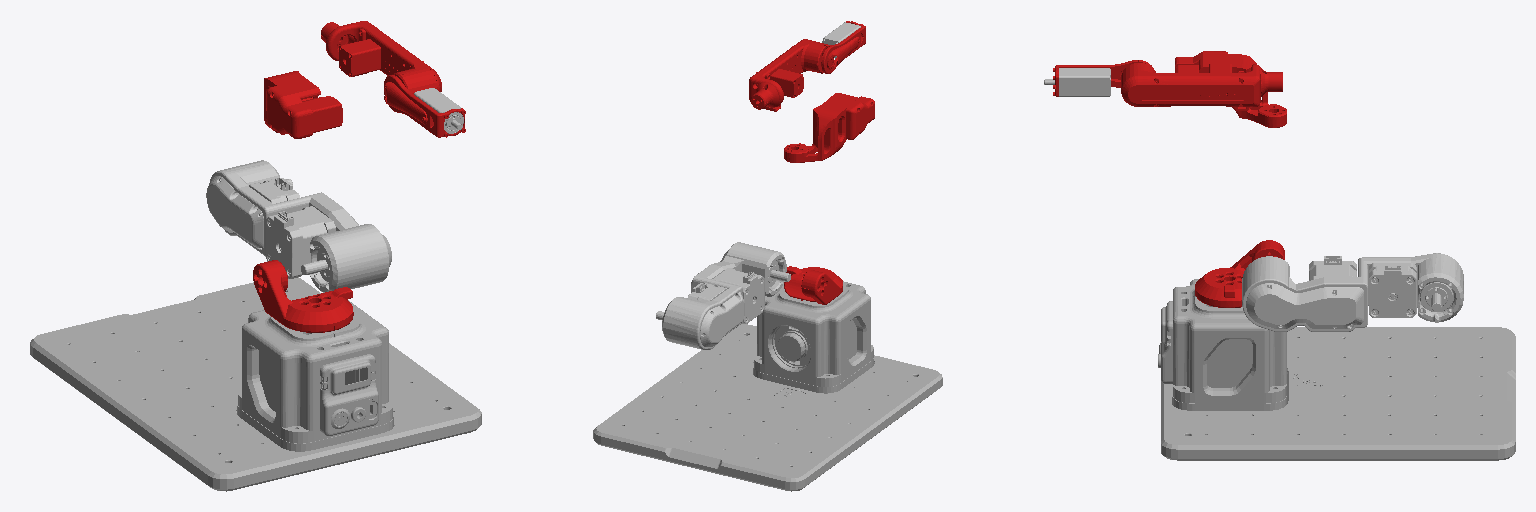
The robot description file, URDF, robot "dummy_sim_ros":
<robot
  name="dummy_sim_ros">
  <link
    name="base_link">
    <inertial>
      <origin
        xyz="-6.8096E-05 0.070008 0.00019856"
        rpy="0 0 0" />
      <mass
        value="1.5382" />
      <inertia
        ixx="0.0040131"
        ixy="-1.2472E-05"
        ixz="2.4677E-06"
        iyy="0.00089179"
        iyz="0.0013906"
        izz="0.003361" />
    </inertial>
    <visual>
      <origin
        xyz="0 0 0"
        rpy="0 0 0" />
      <geometry>
        <mesh
          filename="package://dummy_sim_ros/meshes/base_link.STL" />
      </geometry>
      <material
        name="">
        <color
          rgba="0.72157 0.72157 0.72157 1" />
      </material>
    </visual>
    <collision>
      <origin
        xyz="0 0 0"
        rpy="0 0 0" />
      <geometry>
        <mesh
          filename="package://dummy_sim_ros/meshes/base_link.STL" />
      </geometry>
    </collision>
  </link>
  <link
    name="link1">
    <inertial>
      <origin
        xyz="-0.0056156 0.0056565 0.11554"
        rpy="0 0 0" />
      <mass
        value="0.052137" />
      <inertia
        ixx="0"
        ixy="0"
        ixz="0"
        iyy="0"
        iyz="0"
        izz="0" />
    </inertial>
    <visual>
      <origin
        xyz="0 0 0"
        rpy="0 0 0" />
      <geometry>
        <mesh
          filename="package://dummy_sim_ros/meshes/link1.STL" />
      </geometry>
      <material
        name="">
        <color
          rgba="0.81176 0.1451 0.1451 1" />
      </material>
    </visual>
    <collision>
      <origin
        xyz="0 0 0"
        rpy="0 0 0" />
      <geometry>
        <mesh
          filename="package://dummy_sim_ros/meshes/link1.STL" />
      </geometry>
    </collision>
  </link>
  <joint
    name="joint1"
    type="revolute">
    <origin
      xyz="0 0 -0.023"
      rpy="-9.9341E-09 0 0" />
    <parent
      link="base_link" />
    <child
      link="link1" />
    <axis
      xyz="0 0 1" />
    <limit
      lower="-3.14"
      upper="3.14"
      effort="100"
      velocity="1" />
  </joint>
  <link
    name="link2">
    <inertial>
      <origin
        xyz="0.064108 -0.0022481 -0.016073"
        rpy="0 0 0" />
      <mass
        value="0.28881" />
      <inertia
        ixx="3.94E-05"
        ixy="-9.3344E-07"
        ixz="3.4684E-05"
        iyy="0.00029691"
        iyz="-7.3142E-07"
        izz="0.00025967" />
    </inertial>
    <visual>
      <origin
        xyz="0 0 0"
        rpy="0 0 0" />
      <geometry>
        <mesh
          filename="package://dummy_sim_ros/meshes/link2.STL" />
      </geometry>
      <material
        name="">
        <color
          rgba="0.79608 0.79608 0.79608 1" />
      </material>
    </visual>
    <collision>
      <origin
        xyz="0 0 0"
        rpy="0 0 0" />
      <geometry>
        <mesh
          filename="package://dummy_sim_ros/meshes/link2.STL" />
      </geometry>
    </collision>
  </link>
  <joint
    name="joint2"
    type="revolute">
    <origin
      xyz="0.02 0.035 0.132"
      rpy="0 -1.5708 0" />
    <parent
      link="link1" />
    <child
      link="link2" />
    <axis
      xyz="0 0 1" />
    <limit
      lower="-3.14"
      upper="3.14"
      effort="100"
      velocity="1" />
  </joint>
  <link
    name="link3">
    <inertial>
      <origin
        xyz="0.0351882654713319 -0.0116621887555742 -0.030903416656249"
        rpy="0 0 0" />
      <mass
        value="0.0927716605678686" />
      <inertia
        ixx="7.27805664799282E-05"
        ixy="6.17755949678826E-07"
        ixz="4.38106132602059E-06"
        iyy="5.95407425791179E-05"
        iyz="-2.05826219620544E-05"
        izz="1.52828302700554E-05" />
    </inertial>
    <visual>
      <origin
        xyz="0 0 0"
        rpy="0 0 0" />
      <geometry>
        <mesh
          filename="package://dummy_sim_ros/meshes/link3.STL" />
      </geometry>
      <material
        name="">
        <color
          rgba="0.811764705882353 0.145098039215686 0.145098039215686 1" />
      </material>
    </visual>
    <collision>
      <origin
        xyz="0 0 0"
        rpy="0 0 0" />
      <geometry>
        <mesh
          filename="package://dummy_sim_ros/meshes/link3.STL" />
      </geometry>
    </collision>
  </link>
  <joint
    name="joint3"
    type="revolute">
    <origin
      xyz="0.146 0.004 0.02015"
      rpy="3.1416 1.5708 0" />
    <parent
      link="link2" />
    <child
      link="link3" />
    <axis
      xyz="-1 0 0" />
    <limit
      lower="-3.14"
      upper="3.14"
      effort="100"
      velocity="1" />
  </joint>
  <link
    name="link4">
    <inertial>
      <origin
        xyz="-0.00879903220502491 0.0929695109996963 -0.00135814214840718"
        rpy="0 0 0" />
      <mass
        value="0.0565793373002389" />
      <inertia
        ixx="4.52106144351053E-05"
        ixy="6.10698310048182E-06"
        ixz="1.5260735796647E-07"
        iyy="5.30731189922814E-06"
        iyz="-8.89643399138576E-07"
        izz="5.00251216011412E-05" />
    </inertial>
    <visual>
      <origin
        xyz="0 0 0"
        rpy="0 0 0" />
      <geometry>
        <mesh
          filename="package://dummy_sim_ros/meshes/link4.STL" />
      </geometry>
      <material
        name="">
        <color
          rgba="0.811764705882353 0.145098039215686 0.145098039215686 1" />
      </material>
    </visual>
    <collision>
      <origin
        xyz="0 0 0"
        rpy="0 0 0" />
      <geometry>
        <mesh
          filename="package://dummy_sim_ros/meshes/link4.STL" />
      </geometry>
    </collision>
  </link>
  <joint
    name="joint4"
    type="revolute">
    <origin
      xyz="0.04015 -0.035 -0.0533"
      rpy="3.1416 0 -3.1416" />
    <parent
      link="link3" />
    <child
      link="link4" />
    <axis
      xyz="0 1 0" />
    <limit
      lower="-3.14"
      upper="3.14"
      effort="100"
      velocity="1" />
  </joint>
  <link
    name="link5">
    <inertial>
      <origin
        xyz="-0.00354102571014257 0.0226043546297583 2.1993427339384E-05"
        rpy="0 0 0" />
      <mass
        value="0.00965516430296135" />
      <inertia
        ixx="5.195697005033E-07"
        ixy="1.66775583567096E-07"
        ixz="-9.0575340290026E-10"
        iyy="9.63428924734517E-08"
        iyz="1.39675577621294E-09"
        izz="5.94717960141526E-07" />
    </inertial>
    <visual>
      <origin
        xyz="0 0 0"
        rpy="0 0 0" />
      <geometry>
        <mesh
          filename="package://dummy_sim_ros/meshes/link5.STL" />
      </geometry>
      <material
        name="">
        <color
          rgba="0.811764705882353 0.145098039215686 0.145098039215686 1" />
      </material>
    </visual>
    <collision>
      <origin
        xyz="0 0 0"
        rpy="0 0 0" />
      <geometry>
        <mesh
          filename="package://dummy_sim_ros/meshes/link5.STL" />
      </geometry>
    </collision>
  </link>
  <joint
    name="joint5"
    type="revolute">
    <origin
      xyz="0.0168 0.1562 -0.0013"
      rpy="0 0 0" />
    <parent
      link="link4" />
    <child
      link="link5" />
    <axis
      xyz="1 0 0" />
    <limit
      lower="-3.14"
      upper="3.14"
      effort="100"
      velocity="1" />
  </joint>
  <link
    name="link6">
    <inertial>
      <origin
        xyz="4.93429714271079E-08 1.21614367826206E-06 -0.0210553749932149"
        rpy="0 0 0" />
      <mass
        value="0.0185604039379725" />
      <inertia
        ixx="3.28515570655283E-06"
        ixy="7.95165222418765E-16"
        ixz="1.76807257819155E-11"
        iyy="3.28515386880515E-06"
        iyz="-5.65838329502697E-10"
        izz="1.83814962825549E-12" />
    </inertial>
    <visual>
      <origin
        xyz="0 0 0"
        rpy="0 0 0" />
      <geometry>
        <mesh
          filename="package://dummy_sim_ros/meshes/link6.STL" />
      </geometry>
      <material
        name="">
        <color
          rgba="0.796078431372549 0.796078431372549 0.796078431372549 1" />
      </material>
    </visual>
    <collision>
      <origin
        xyz="0 0 0"
        rpy="0 0 0" />
      <geometry>
        <mesh
          filename="package://dummy_sim_ros/meshes/link6.STL" />
      </geometry>
    </collision>
  </link>
  <joint
    name="joint6"
    type="revolute">
    <origin
      xyz="-0.0168 0.0668 0"
      rpy="-1.5708 0 0" />
    <parent
      link="link5" />
    <child
      link="link6" />
    <axis
      xyz="0 0 1" />
    <limit
      lower="-3.14"
      upper="3.14"
      effort="100"
      velocity="1" />
  </joint>
</robot>

--- Render facts (derived) ---
Views: 3 orthographic renders of the robot side by side, from view 1: azimuth 30°, elevation 25°; view 2: azimuth 150°, elevation 25°; view 3: azimuth 270°, elevation 25°.
Robot: dummy_sim_ros — 7 links, 6 joints (6 revolute); root link base_link; default pose: all joints at 0.
Links seen in each view (by area): view 1: base_link, link2, link4, link1, link3, link5, link6; view 2: base_link, link2, link3, link4, link1, link5; view 3: base_link, link2, link4, link1, link3, link6, link5.
Link boxes in pixels (x1,y1,x2,y2): base_link: (30, 277, 481, 491); link2: (206, 160, 391, 292); link4: (321, 21, 441, 93); link1: (253, 260, 353, 332); link3: (264, 71, 342, 138); link5: (384, 75, 465, 137); link6: (414, 88, 463, 133); base_link: (593, 281, 942, 491); link2: (656, 242, 790, 349); link3: (784, 93, 874, 162); link4: (749, 39, 829, 111); link1: (784, 266, 842, 304); link5: (821, 21, 865, 73); base_link: (1158, 279, 1515, 460); link2: (1242, 253, 1463, 331); link4: (1121, 63, 1282, 110); link1: (1195, 240, 1284, 307); link3: (1175, 51, 1286, 127); link6: (1044, 68, 1110, 96); link5: (1053, 60, 1151, 96).
Size in the robot's own frame: 0.25 by 0.412 by 0.3432 metres.
7 mesh visuals loaded from 7 distinct referenced files (7 binary STL).